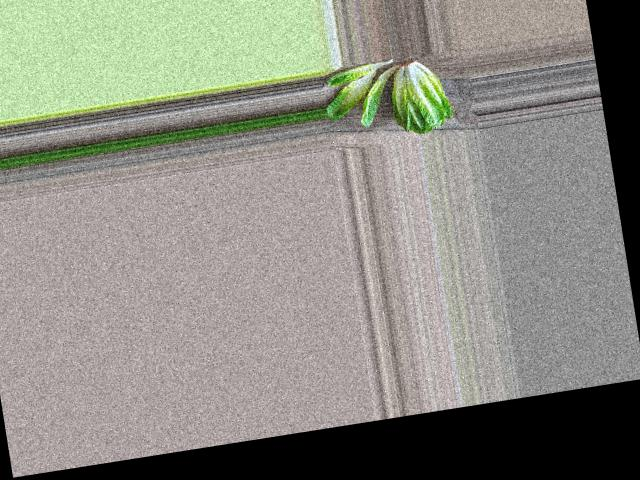lettuce: (383, 58, 457, 137)
